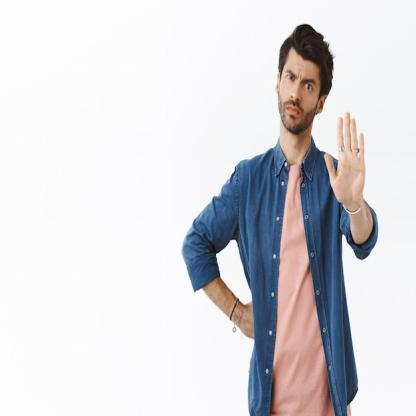stop: (324, 107, 372, 210)
